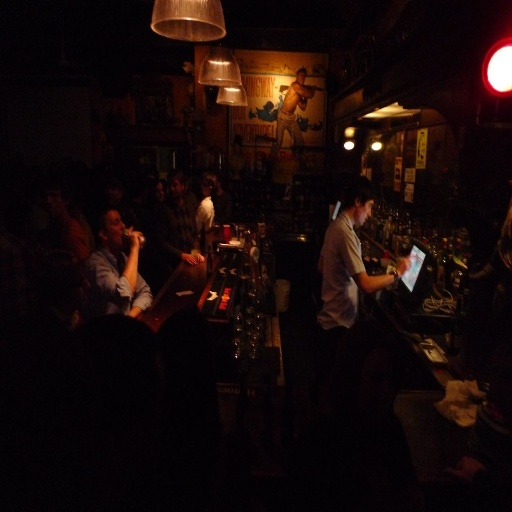hand: (126, 224, 145, 248), (397, 256, 411, 272), (184, 251, 196, 266), (194, 250, 205, 262)
